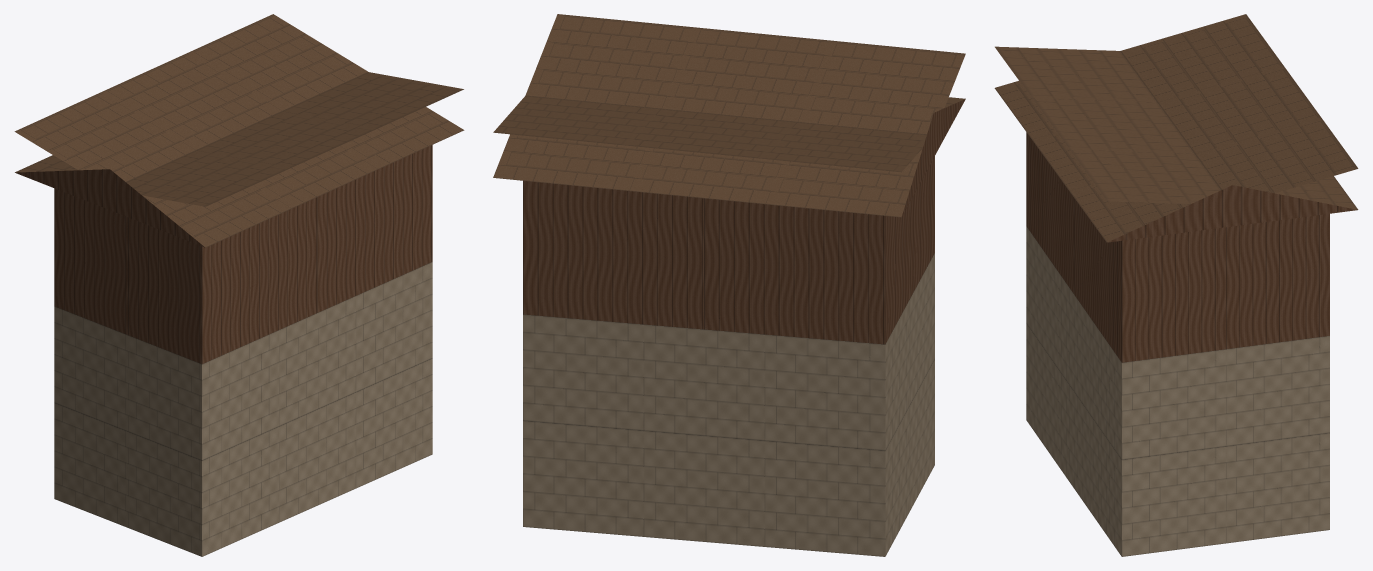
The model's file is bld_c-10_40_515.gltf.
The picture shows the model from 3 angles, left to right: view 1: azimuth 30°, elevation 25°; view 2: azimuth 150°, elevation 25°; view 3: azimuth 270°, elevation 25°; orthographic projection. The views are drawn at different scales.
Parts seen in each view (by area): view 1: bld_c-10_40_515; view 2: bld_c-10_40_515; view 3: bld_c-10_40_515.
Boxes of the visible parts, x1,y1,x2,y2 form: bld_c-10_40_515: (14,14,464,556); bld_c-10_40_515: (493,14,965,556); bld_c-10_40_515: (994,14,1358,556).
Bounding box in the file's own units: 9.73 × 8.9 × 7.99.
Materials: 4 (4 with a texture image).
